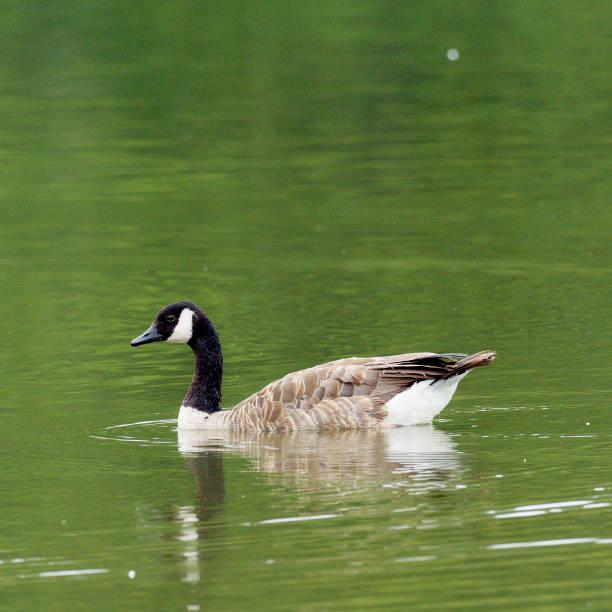Canadian-Goose: (132, 298, 493, 439)
